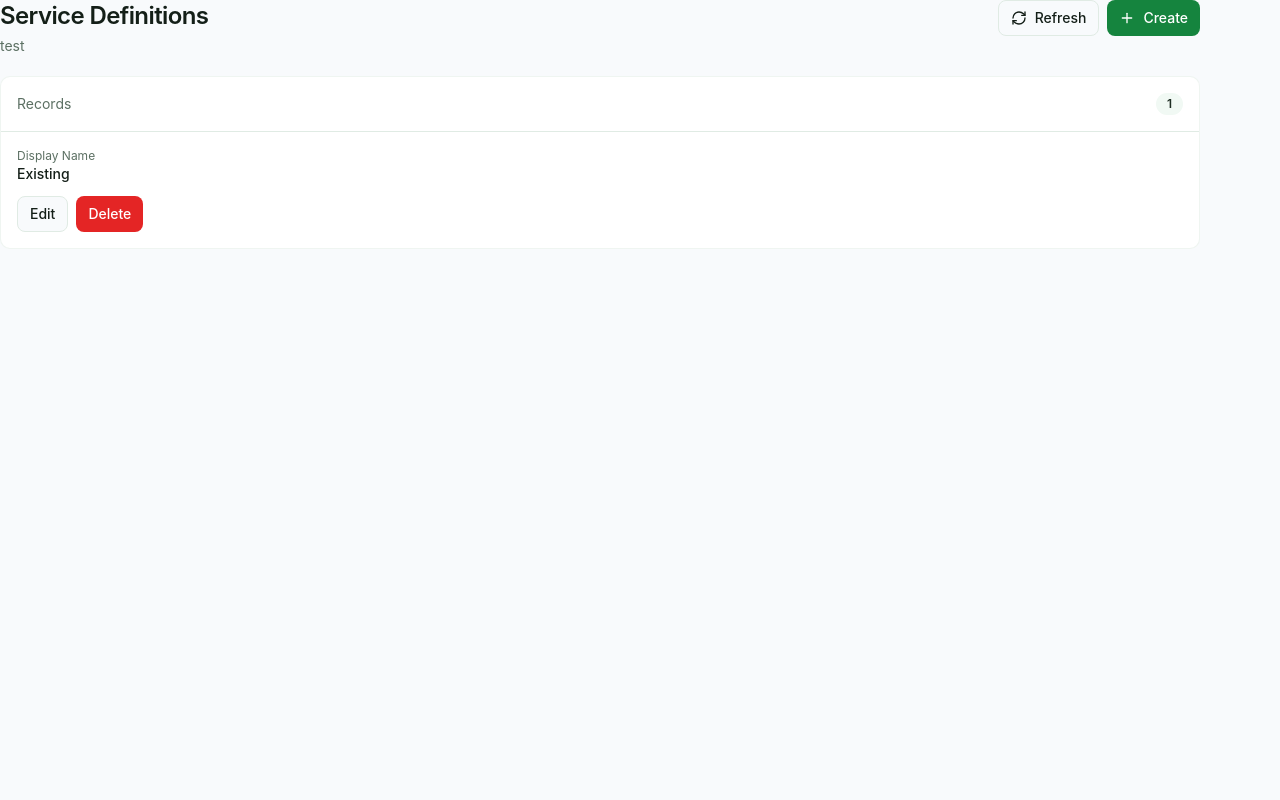
Test: OperationsCrudPage submit feedback › optimistically removes the row as soon as delete is confirmed
This screenshot has width=1280, height=800.
Check: the text "Existing" is shown, box [17,165,70,182]
Click the button "Delete". click: (110, 214)
box: [76,196,143,232]
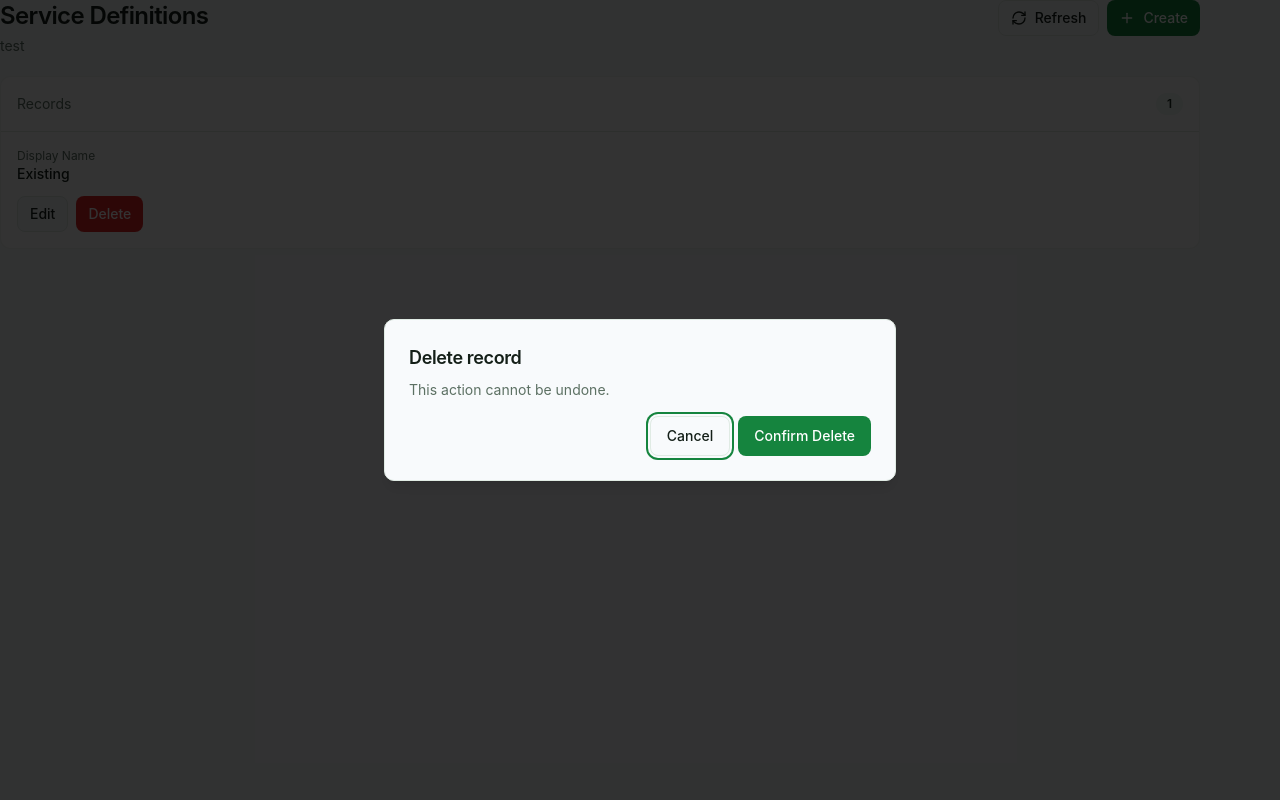
Click the button "Confirm Delete". click: (805, 436)
box: [738,416,871,456]
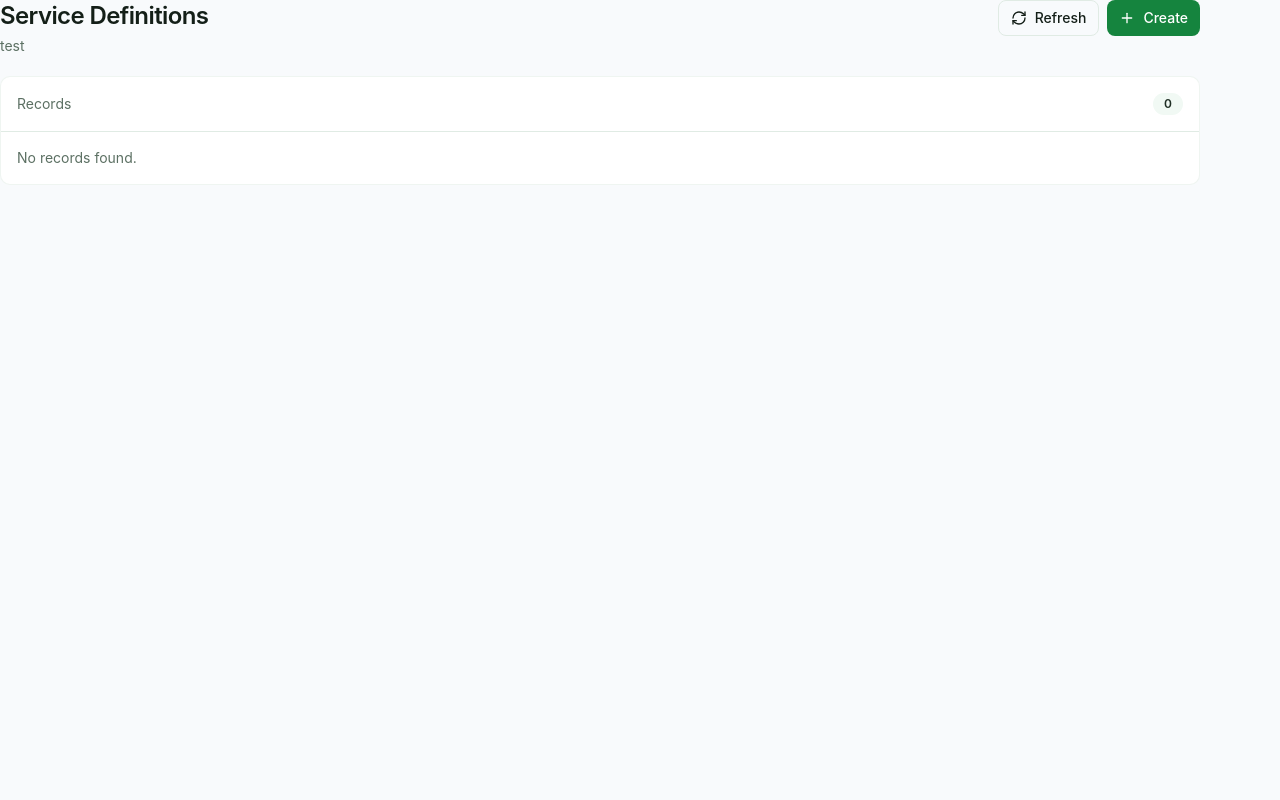
Check: the text "Existing" is gone
Check: the text "No records found." is shown, box [17,149,137,166]
